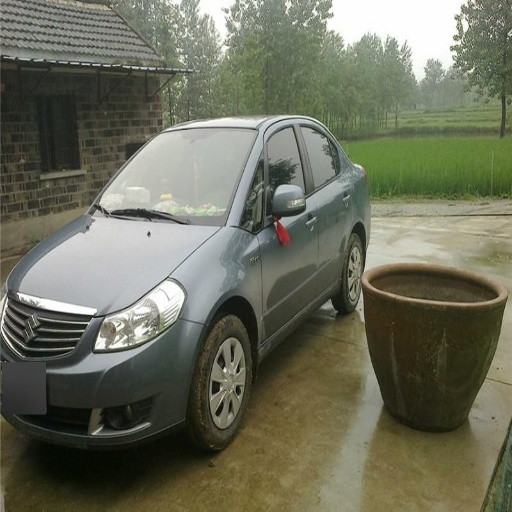front_bumper: (3, 291, 201, 450)
front_glass: (96, 128, 256, 224)
front_left_door: (258, 120, 318, 333)
